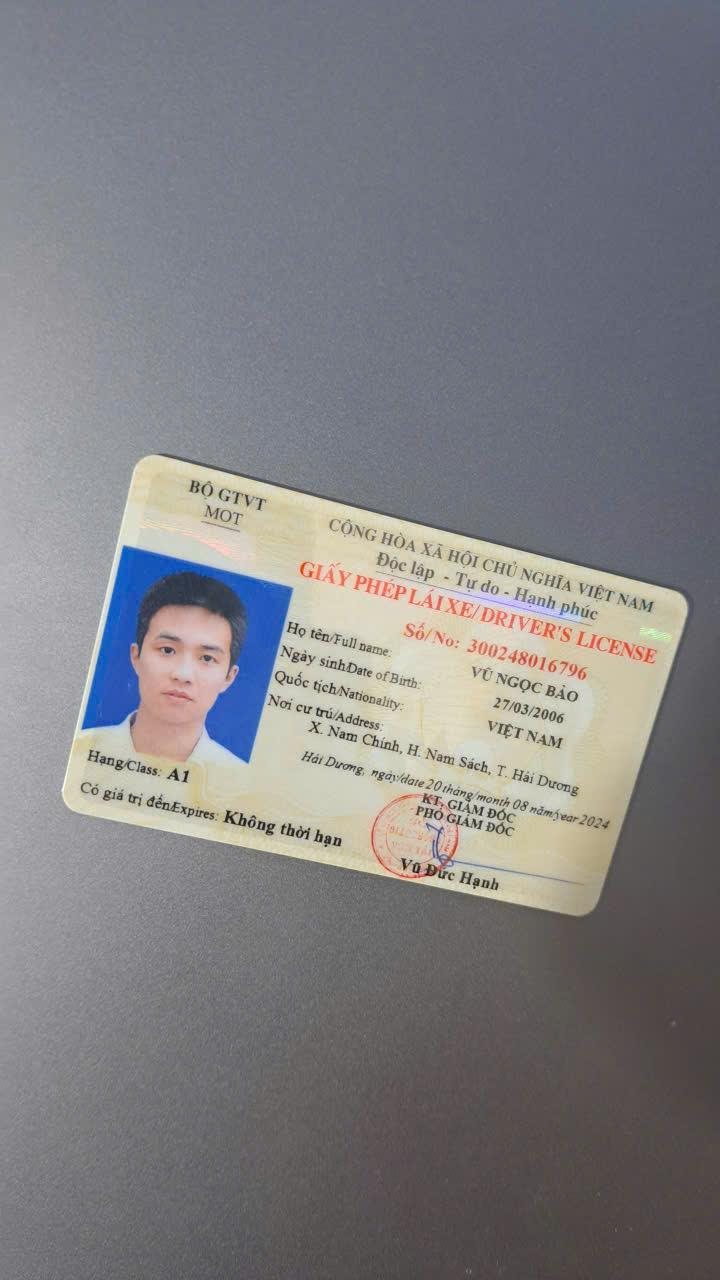gplx: (50, 445, 695, 927)
